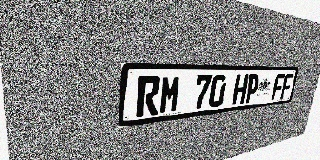0: (208, 75, 227, 108)
7: (192, 75, 212, 110)
F: (271, 74, 285, 100), (280, 74, 294, 99)
H: (232, 74, 249, 105)
M: (158, 75, 182, 115)
P: (244, 74, 260, 103)
R: (136, 76, 161, 117)
